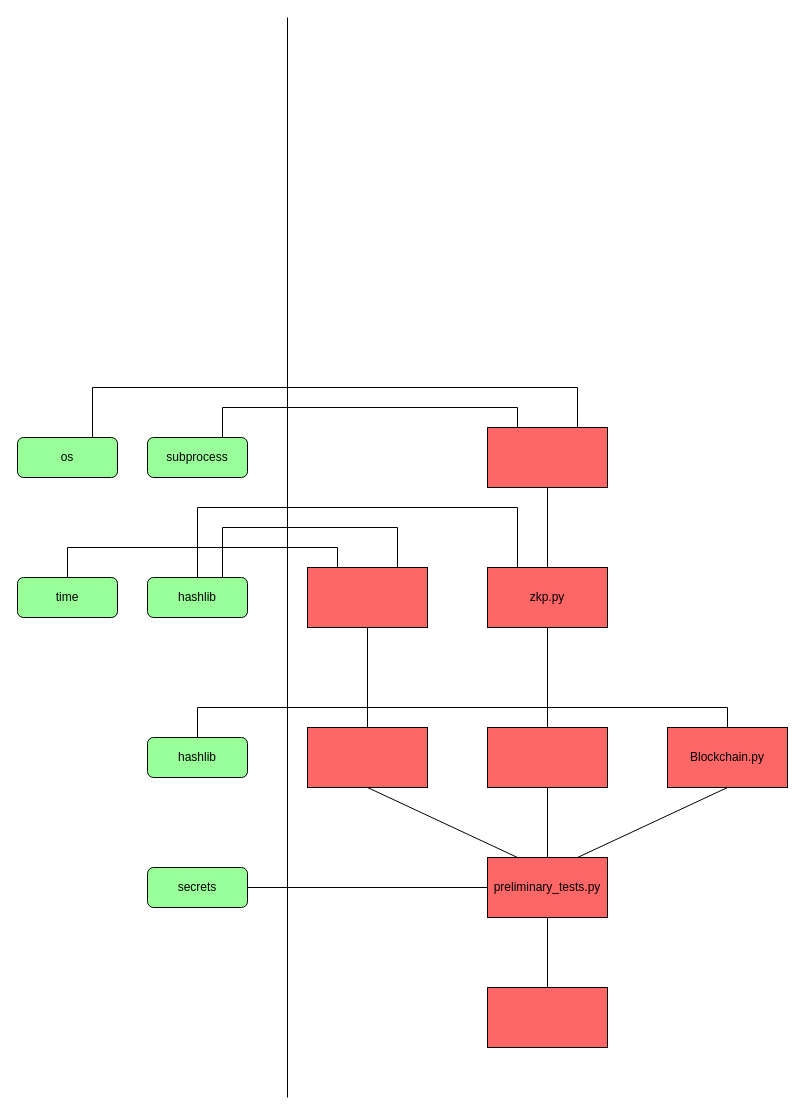
Image size: 805x1116. Some labels were removed from this diagram. The shapes that lost their labels are listed below. From the top down, each one's box as (x1, y1, x2, y2) in pixels, then its label:
(486, 426, 608, 488): zokrates_interface.py
(306, 566, 428, 628): otp.py
(306, 726, 428, 788): vehicle.py
(486, 726, 608, 788): rsu.py
(486, 986, 608, 1048): main.py
